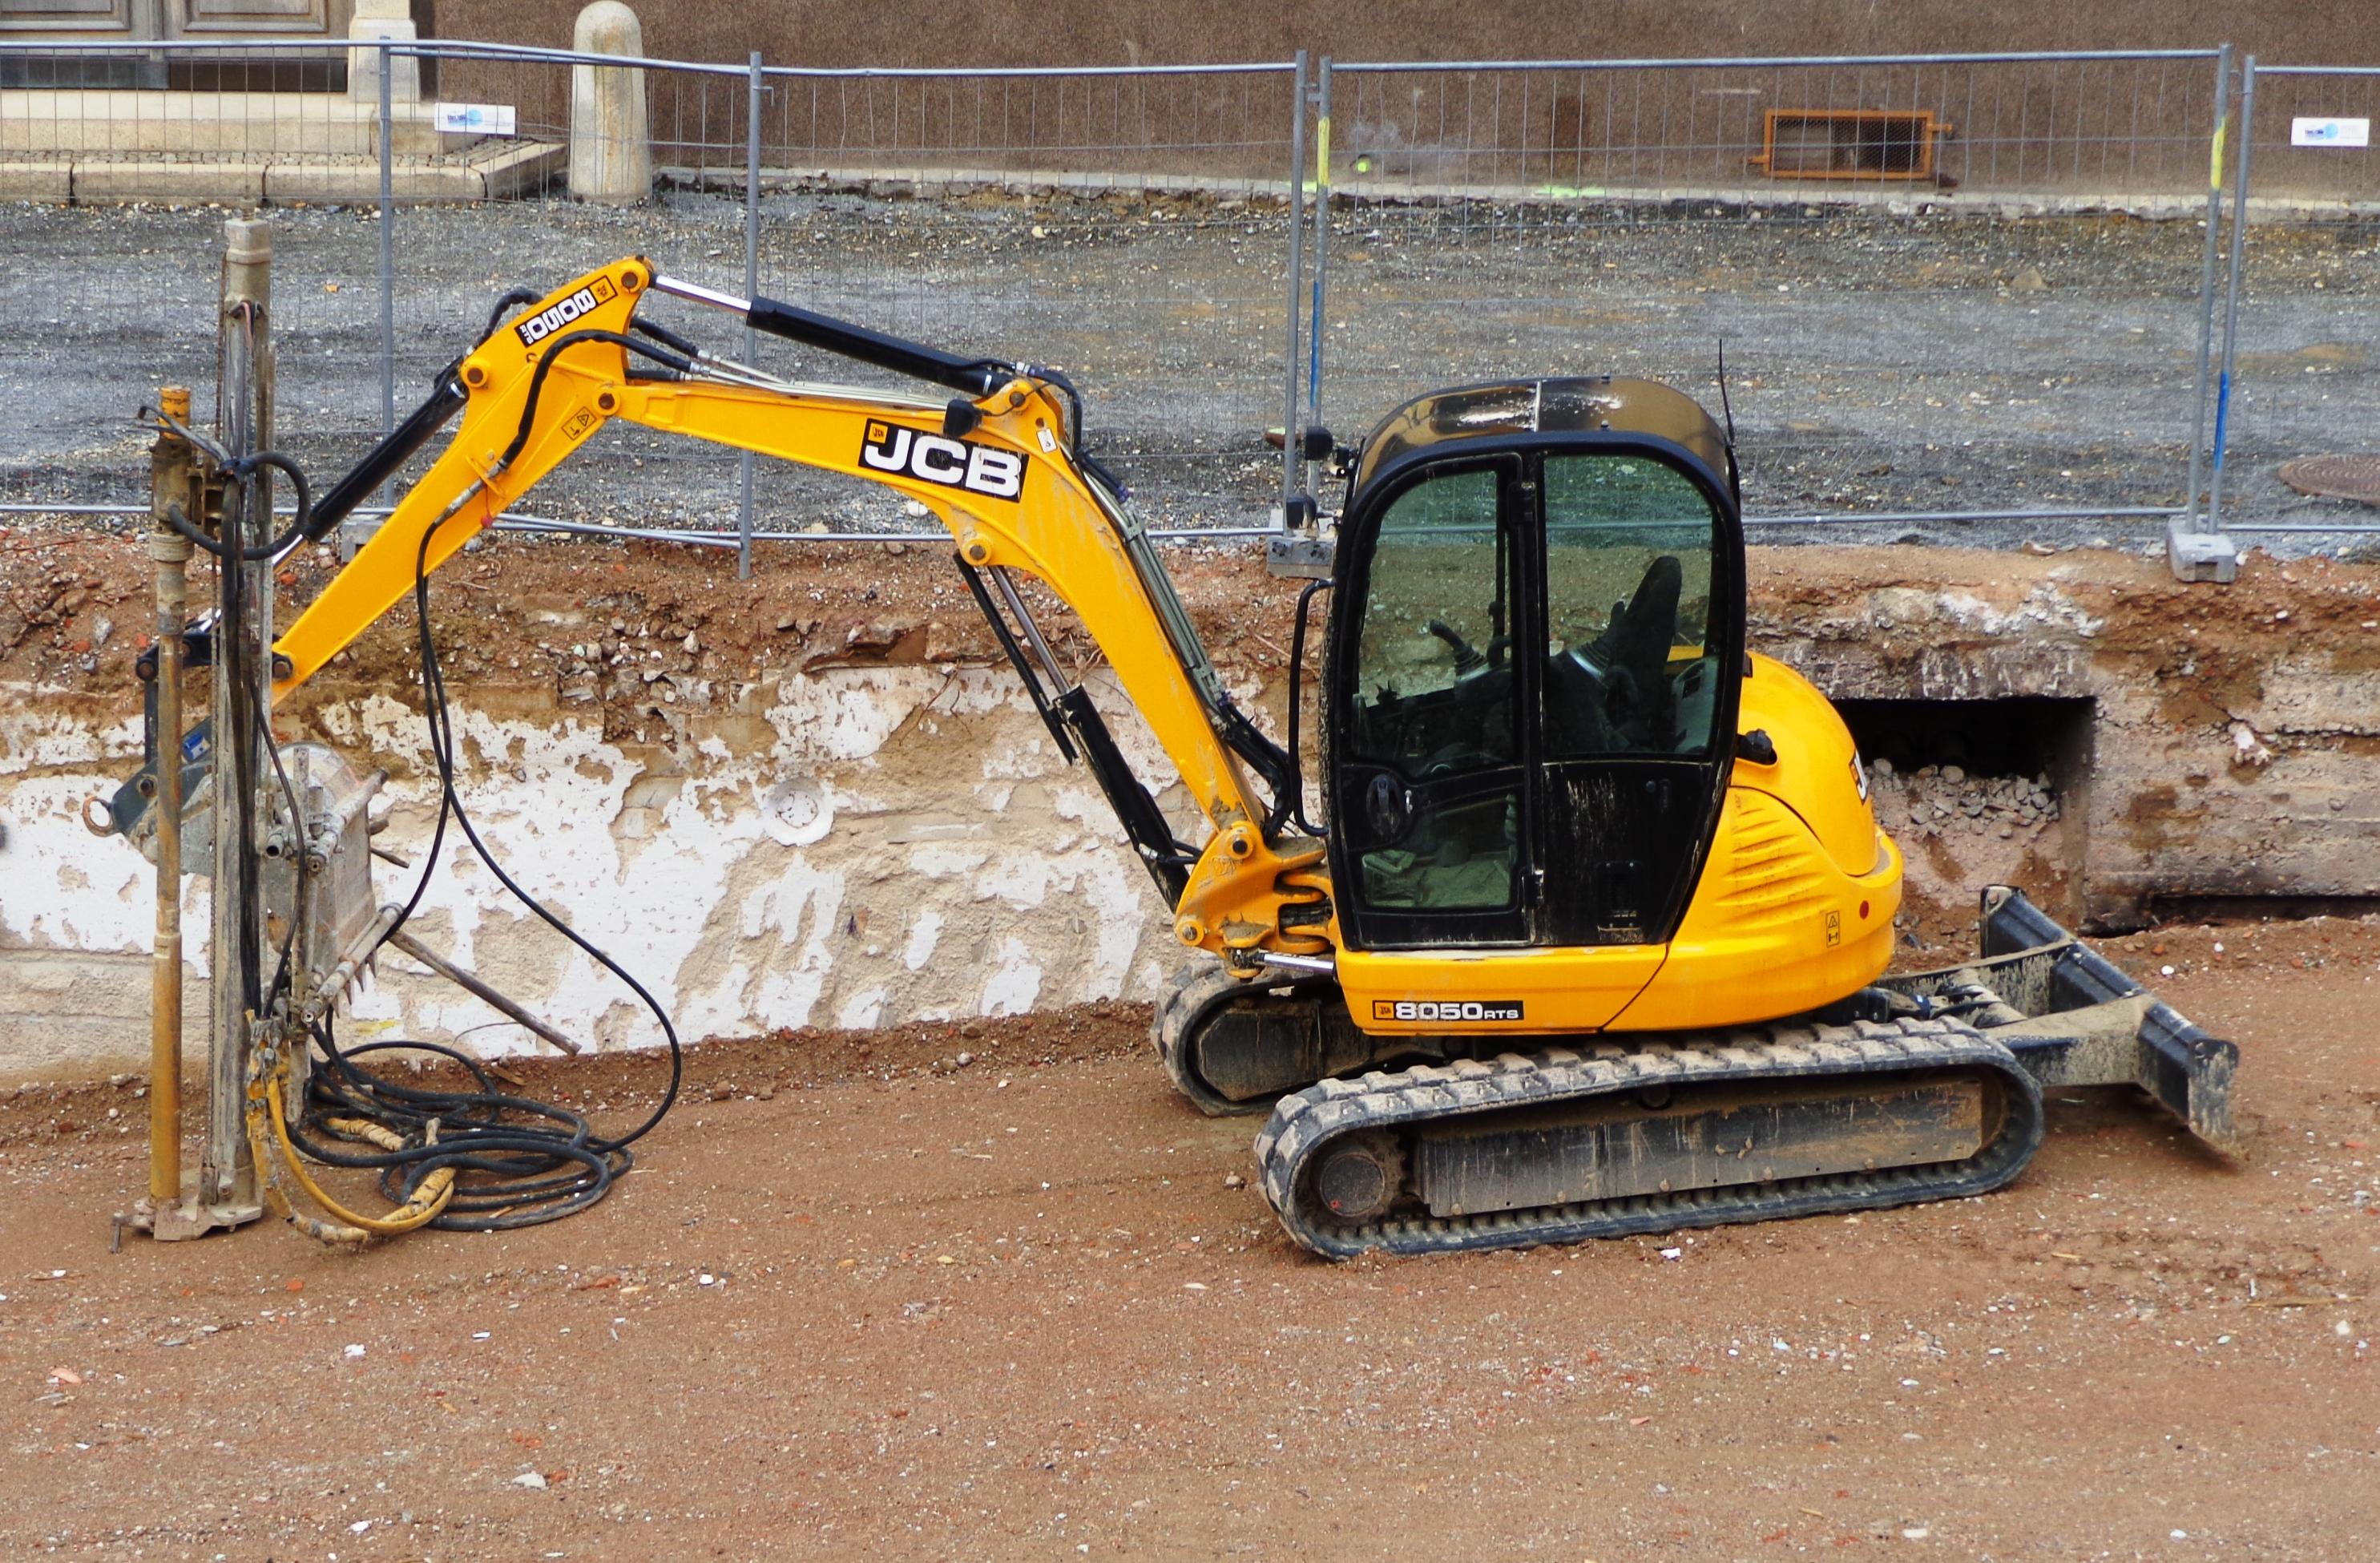excavator: (138, 181, 2256, 1303)
